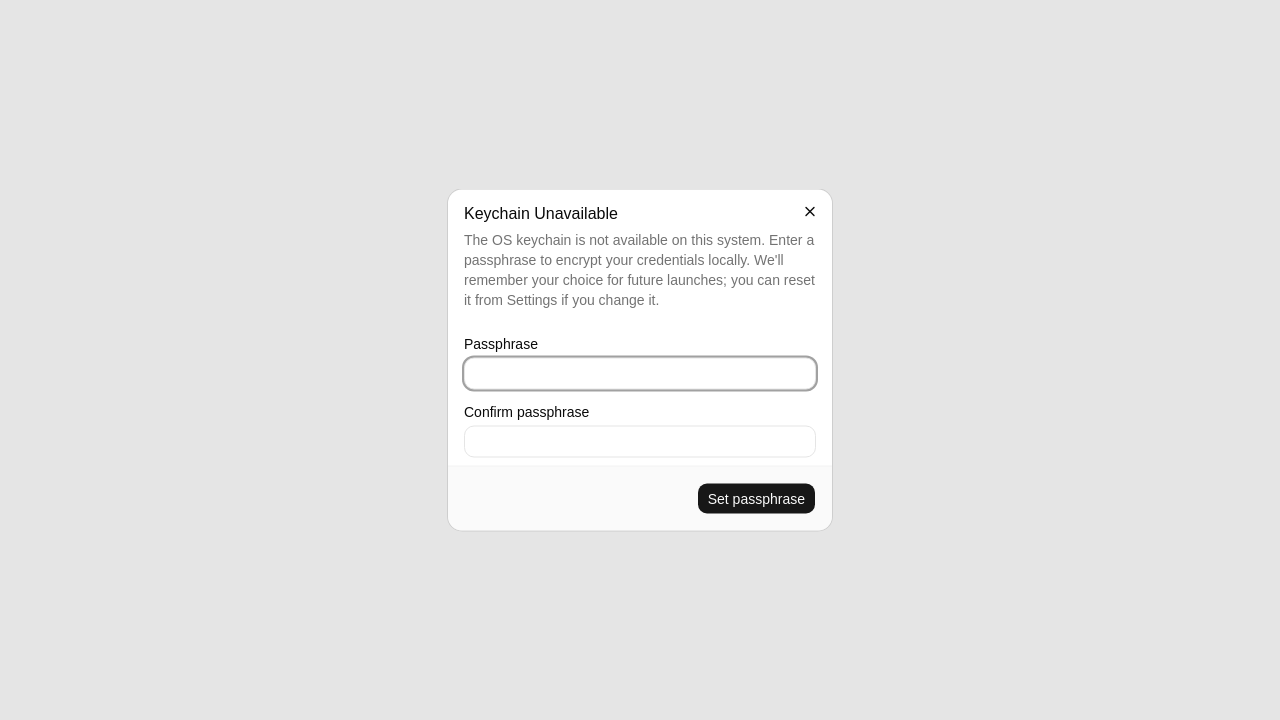
Test: KeychainFallbackPrompt › shows error when passphrases do not match
This screenshot has width=1280, height=720.
Expected: the dialog is shown, [448,190,832,530]
Type "secret123" into the password field labelled "Passphrase". click: (640, 374)
box: [464,358,816,390]
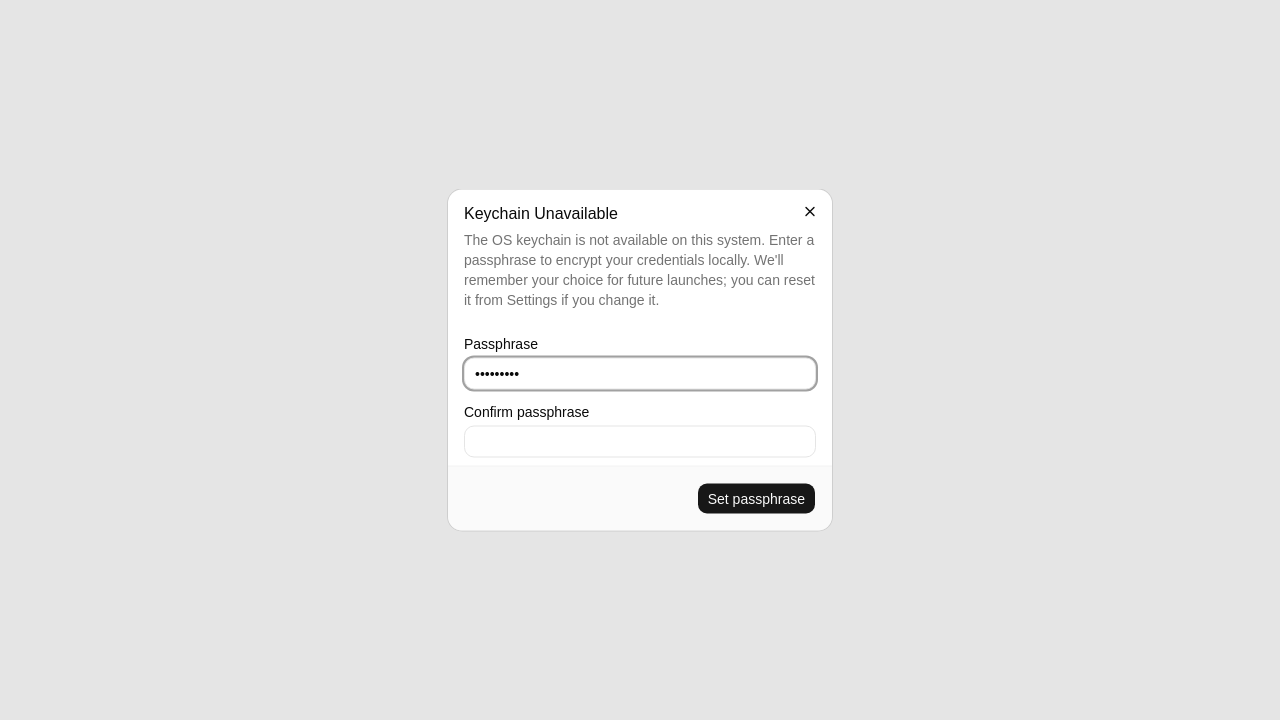
Type "different" into the password field labelled "Confirm passphrase". click: (640, 442)
box: [464,426,816,458]
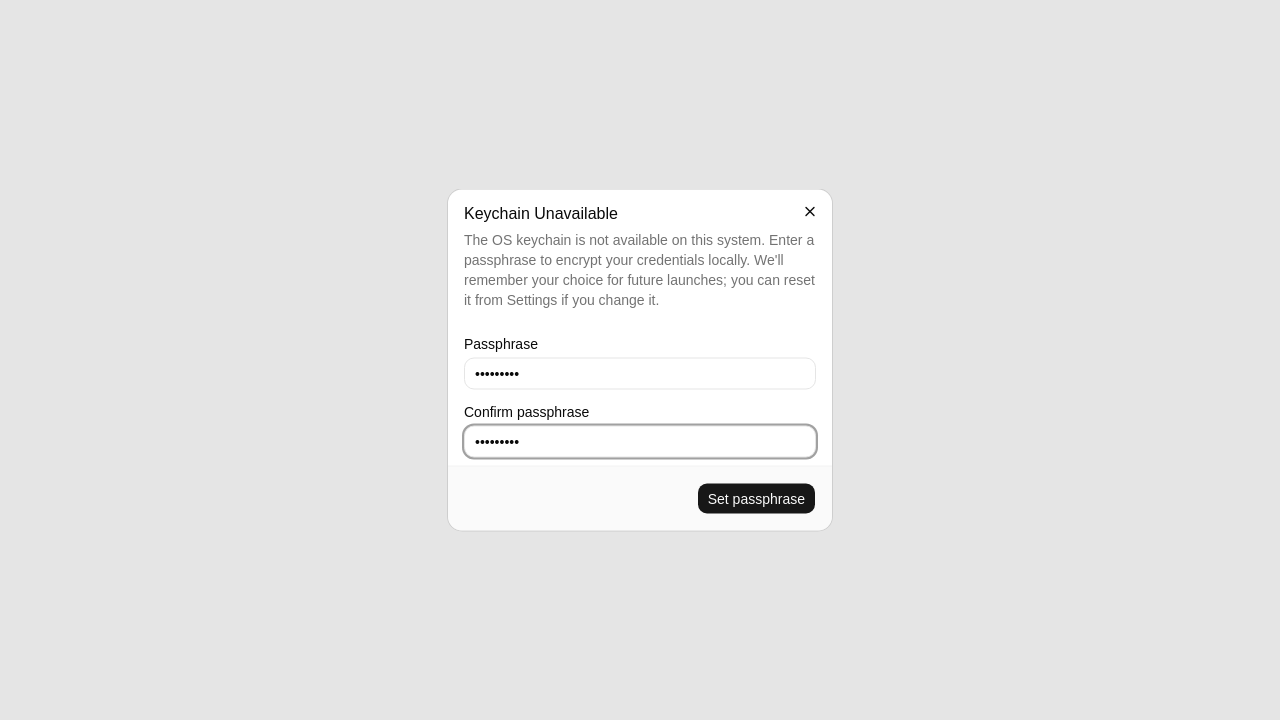
Click the button "Set passphrase". click: (756, 498)
box: [697,482,816,514]
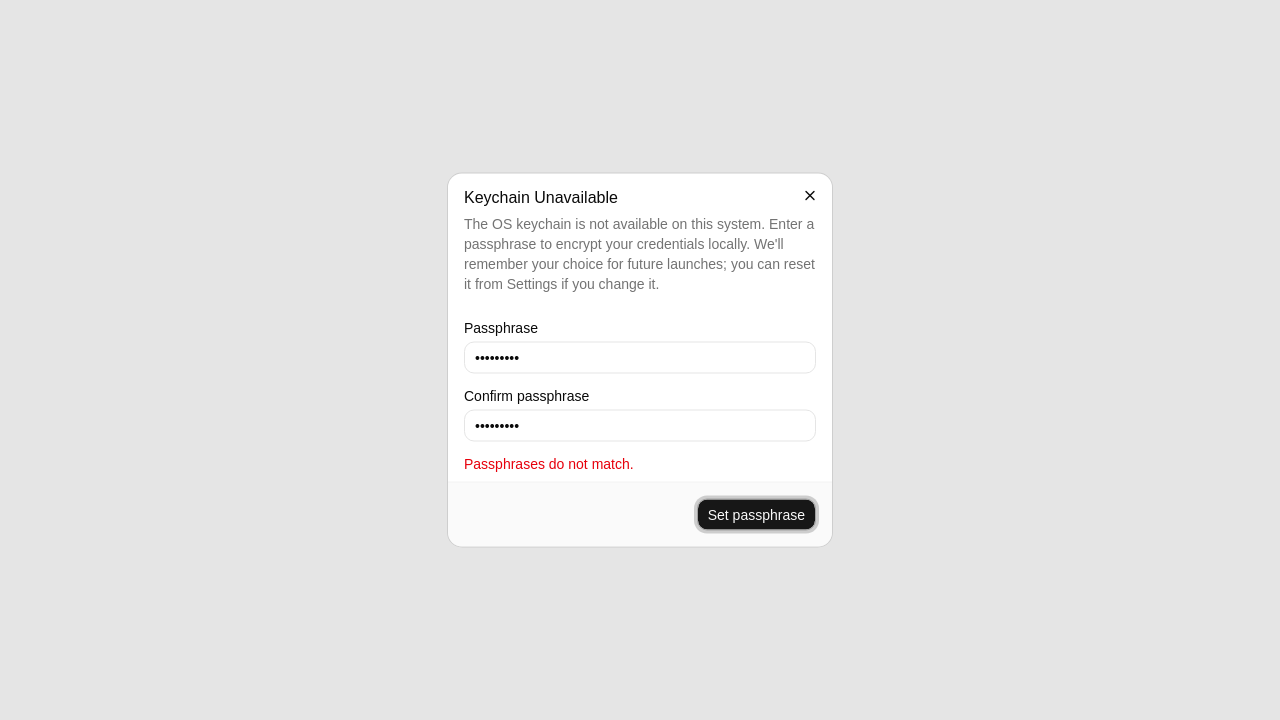
Expected: the dialog is shown, [448,174,832,546]
Now the text "Passphrases do not match." is shown, box [464,456,634,472]
